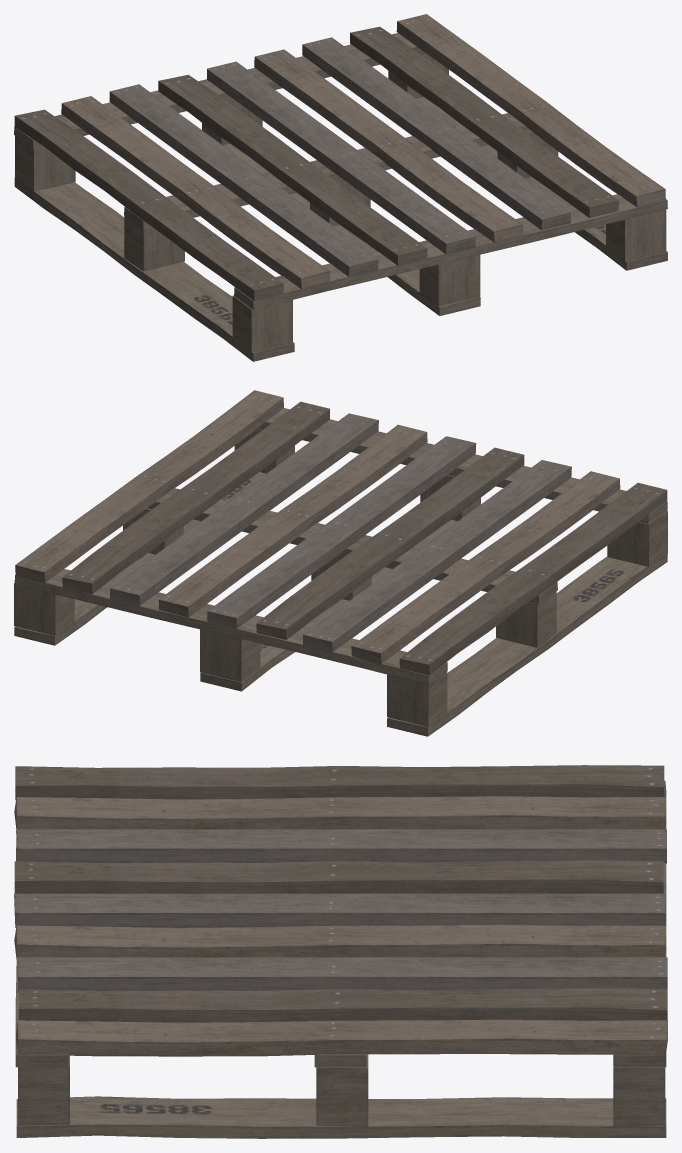
Rendered from SM_Wooden_Pallet_01.FBX.
3 renders of one model, top to bottom at view 1: azimuth 30°, elevation 25°; view 2: azimuth 150°, elevation 25°; view 3: azimuth 270°, elevation 25°, orthographic. The views are drawn at different scales.
Parts seen in each view (by area): view 1: SM_Wooden_Pallet_01; view 2: SM_Wooden_Pallet_01; view 3: SM_Wooden_Pallet_01.
Part boxes in pixels (x1,y1,x2,y2): SM_Wooden_Pallet_01: [14, 14, 667, 361]; SM_Wooden_Pallet_01: [14, 390, 667, 736]; SM_Wooden_Pallet_01: [14, 765, 667, 1138].
Size of what is drawn, in the model's own units: 101 by 101 by 16.83.
